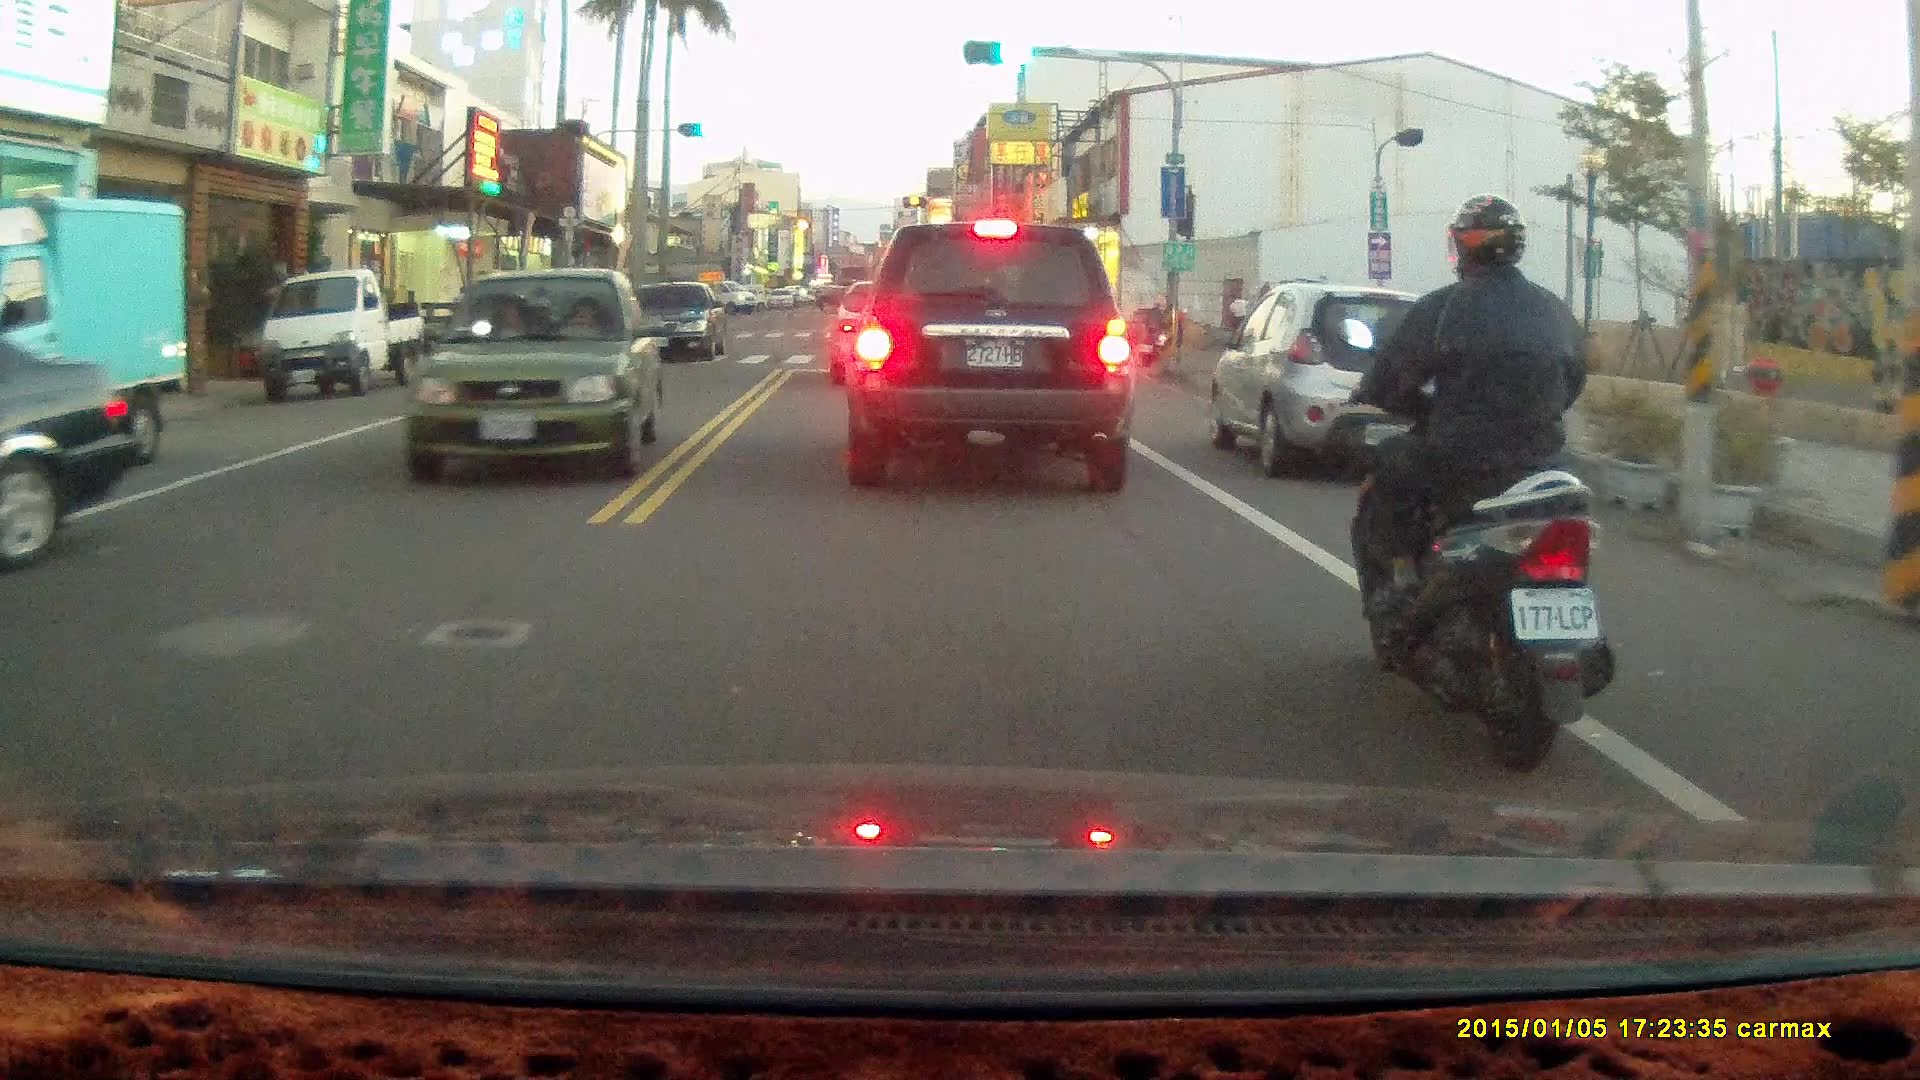pedestrian: (1224, 288, 1252, 360)
rider: (1340, 197, 1622, 782), (1138, 292, 1184, 367)
vehicle: (843, 223, 1138, 495), (1208, 282, 1490, 488), (403, 266, 660, 480), (1, 194, 194, 468), (1, 335, 141, 572), (256, 268, 430, 400), (618, 282, 730, 367)
